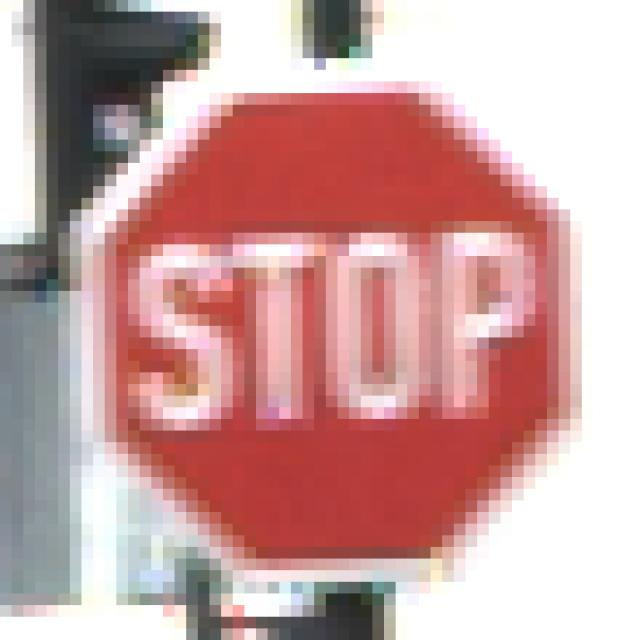STOP: (59, 59, 583, 583)
